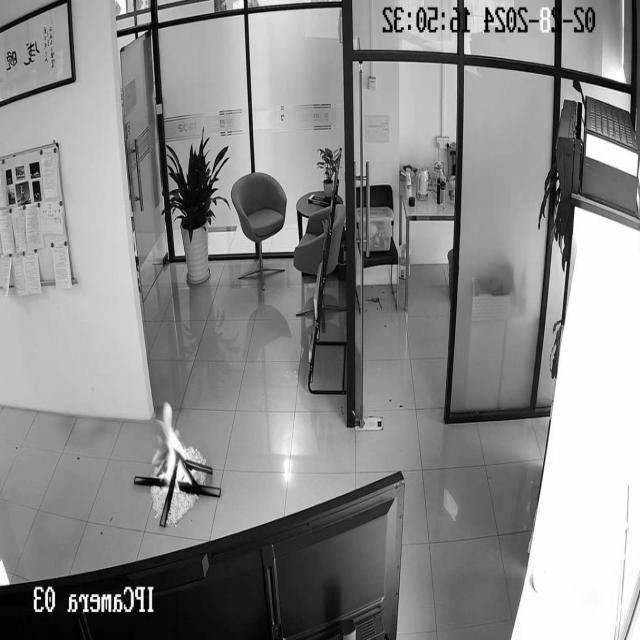smoke: (156, 401, 188, 498)
